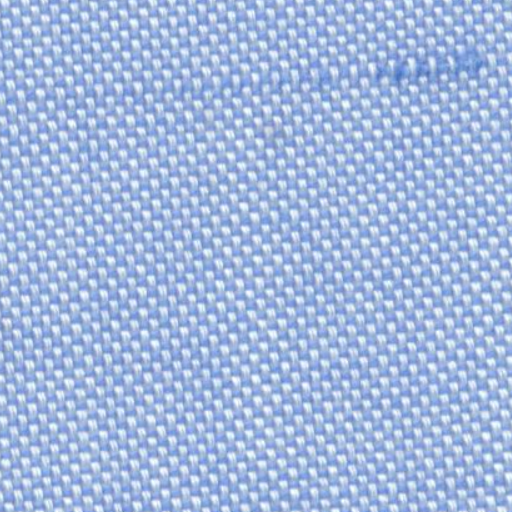DaiSha: (220, 43, 482, 93)
